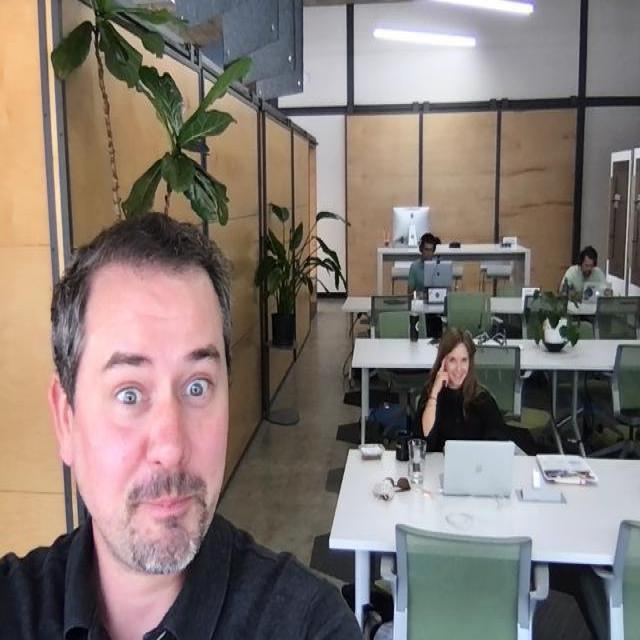face: (48, 212, 236, 585), (436, 327, 478, 388), (420, 231, 436, 265), (580, 247, 597, 274)
